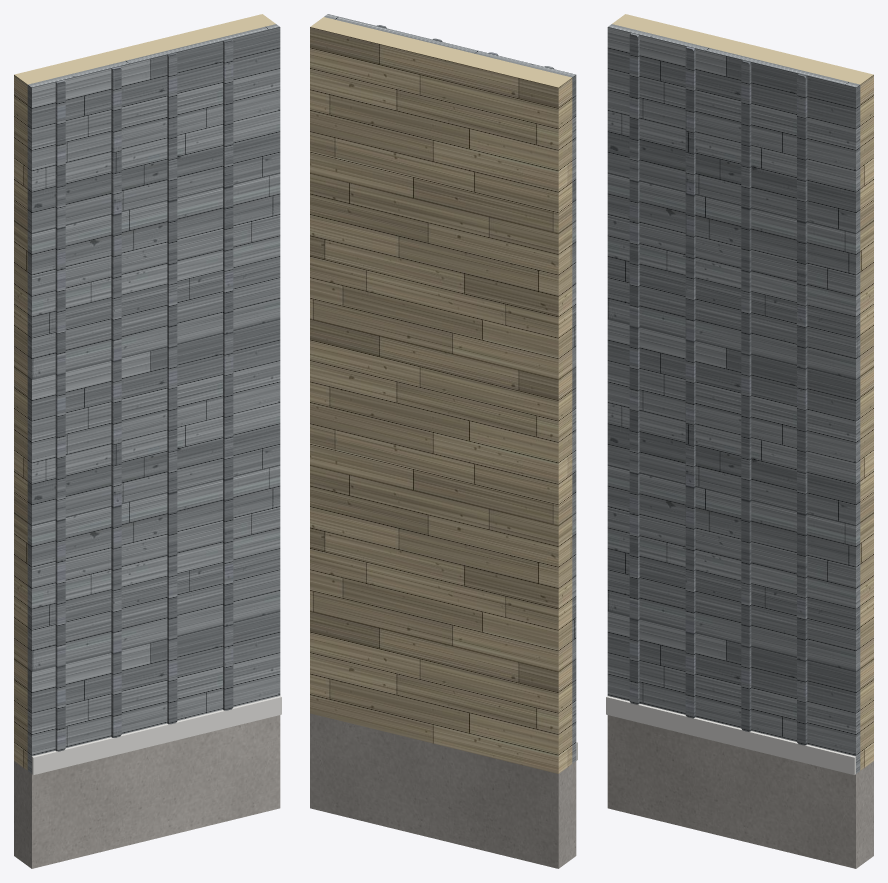
The model's file is m_plain_r.glb.
The picture shows the model from 3 angles, left to right: view 1: azimuth 30°, elevation 25°; view 2: azimuth 150°, elevation 25°; view 3: azimuth 330°, elevation 25°; orthographic projection.
Visible parts, largest first — view 1: m_plain_r_siding, m_plain_r_batten, m_plain_r_concrete, m_plain_r_plaster, m_plain_r_trim; view 2: m_plain_r_plaster, m_plain_r_concrete, m_plain_r_siding; view 3: m_plain_r_siding, m_plain_r_batten, m_plain_r_concrete, m_plain_r_plaster, m_plain_r_trim.
Part boxes in pixels (x1=…): m_plain_r_siding: x1=27, y1=24, x2=280, y2=773; m_plain_r_batten: x1=55, y1=39, x2=233, y2=751; m_plain_r_concrete: x1=14, y1=715, x2=280, y2=868; m_plain_r_plaster: x1=14, y1=14, x2=275, y2=770; m_plain_r_trim: x1=32, y1=696, x2=281, y2=774; m_plain_r_plaster: x1=310, y1=17, x2=572, y2=773; m_plain_r_concrete: x1=310, y1=713, x2=576, y2=868; m_plain_r_siding: x1=324, y1=14, x2=576, y2=763; m_plain_r_siding: x1=607, y1=24, x2=860, y2=773; m_plain_r_batten: x1=629, y1=33, x2=807, y2=745; m_plain_r_concrete: x1=607, y1=715, x2=873, y2=868; m_plain_r_plaster: x1=612, y1=14, x2=873, y2=770; m_plain_r_trim: x1=606, y1=696, x2=855, y2=774.
Bounding box in the file's own units: 1.78 × 5.35 × 0.242.
Materials: 5 (4 with a texture image).
